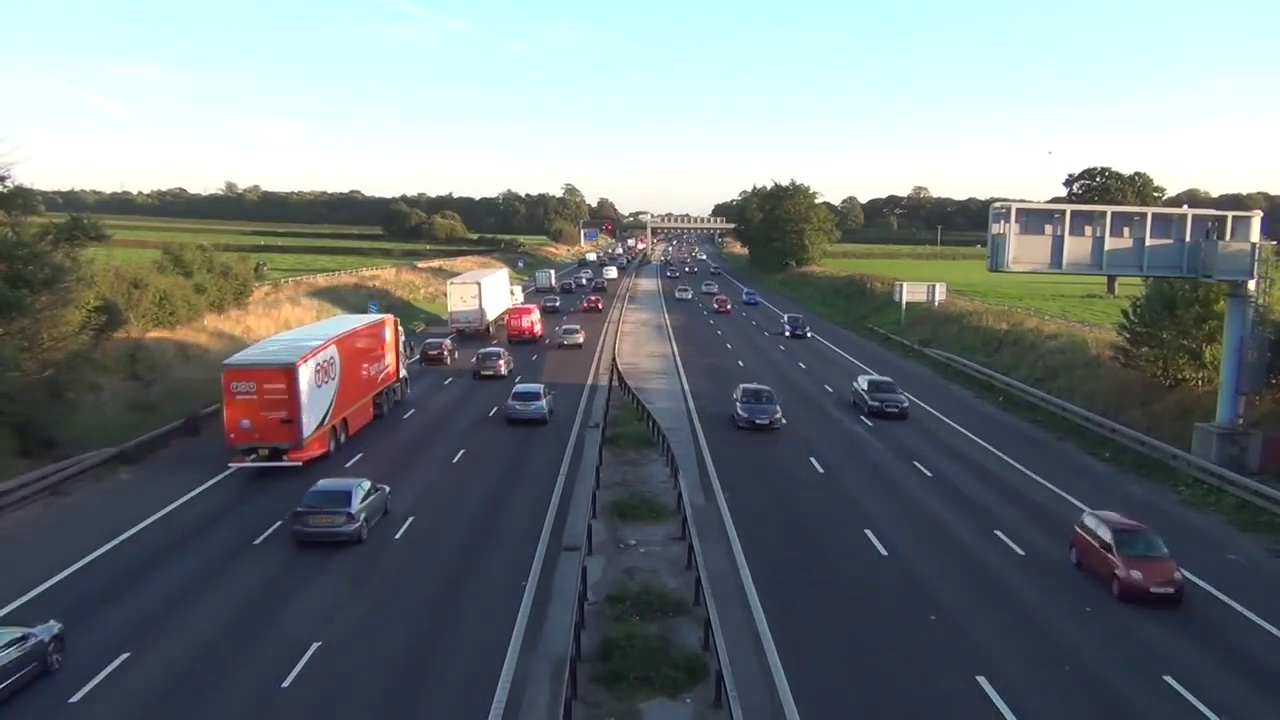bus: (1067, 509, 1186, 610), (291, 478, 395, 544), (0, 618, 67, 716), (848, 374, 911, 420), (731, 385, 787, 432), (505, 384, 553, 425), (471, 348, 514, 379), (420, 338, 456, 365), (781, 313, 813, 340), (557, 324, 585, 348), (711, 294, 733, 316), (581, 294, 606, 313), (741, 287, 762, 308), (674, 285, 694, 301), (541, 296, 560, 311), (701, 281, 719, 293)
car: (220, 314, 415, 470), (447, 268, 512, 335)
lorry: (509, 286, 526, 306)
minibus: (506, 304, 542, 345)
